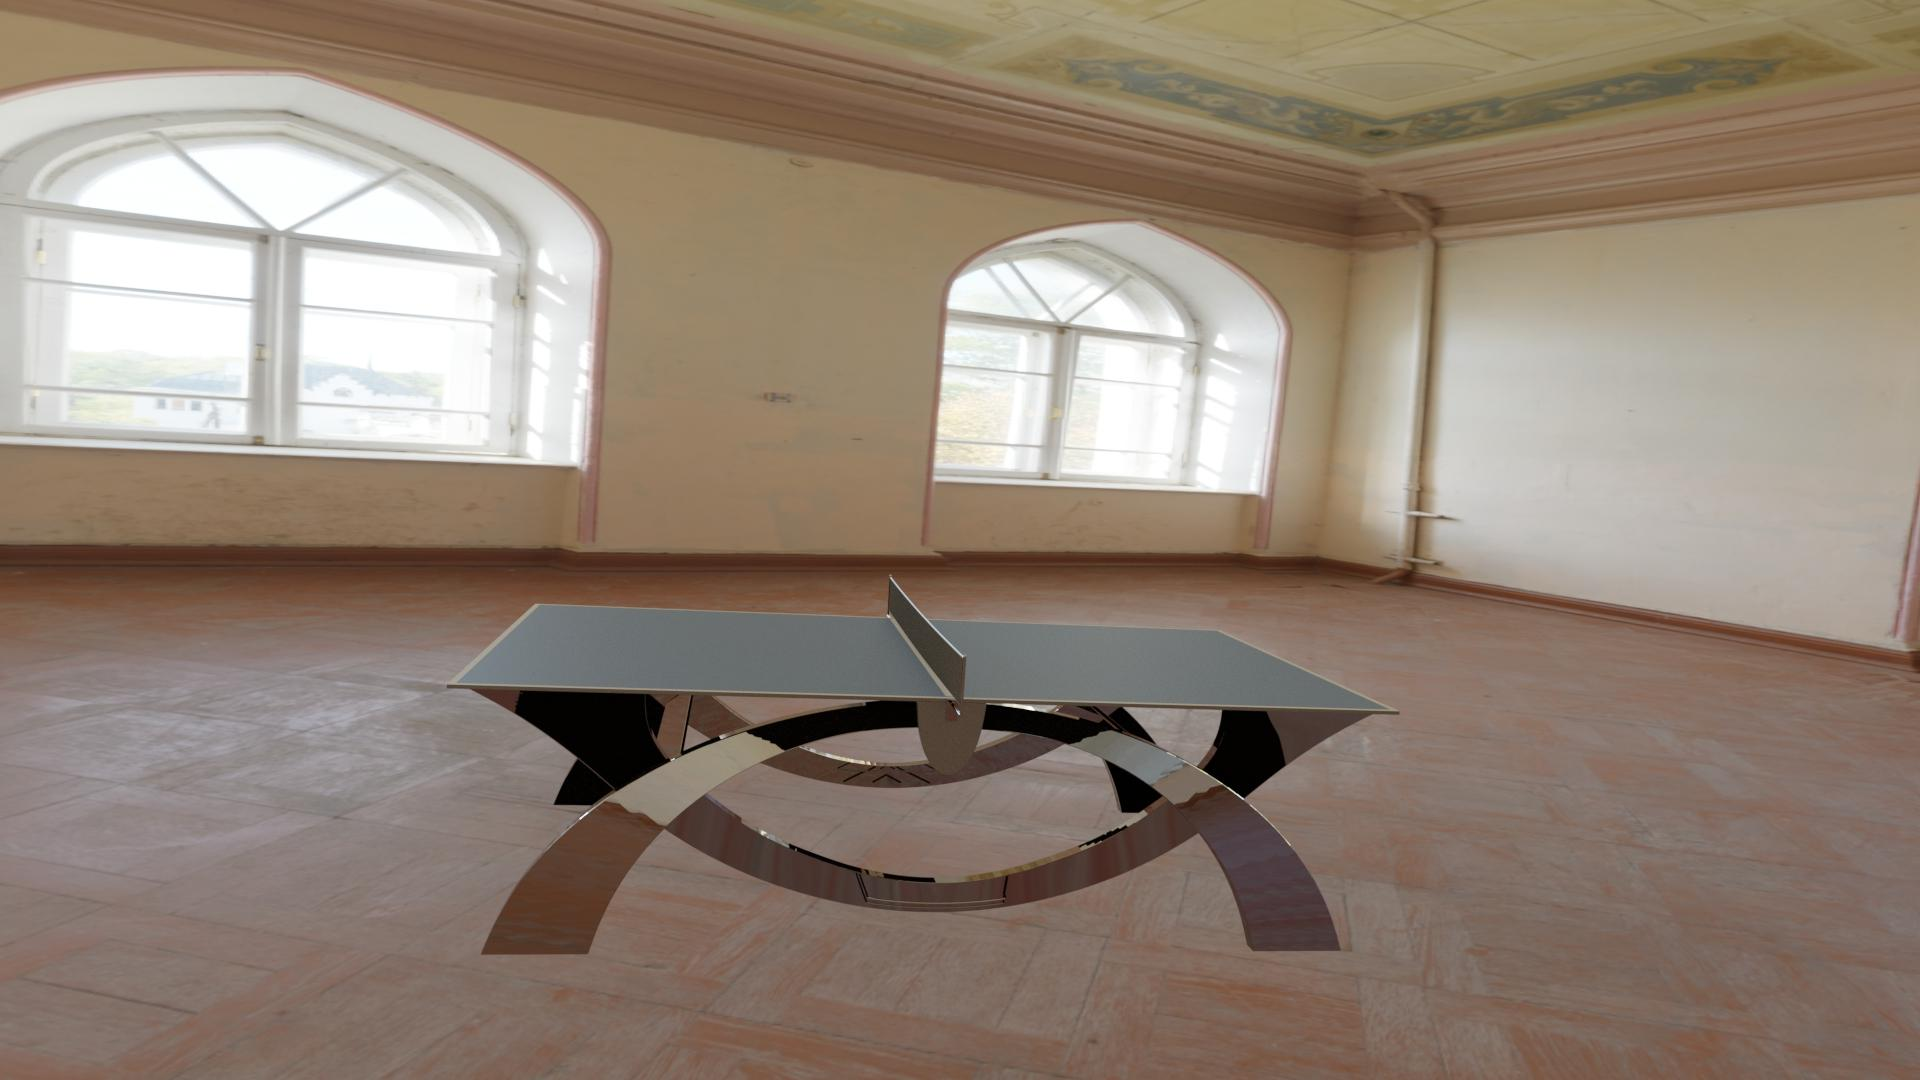table: (456, 605, 1390, 709)
